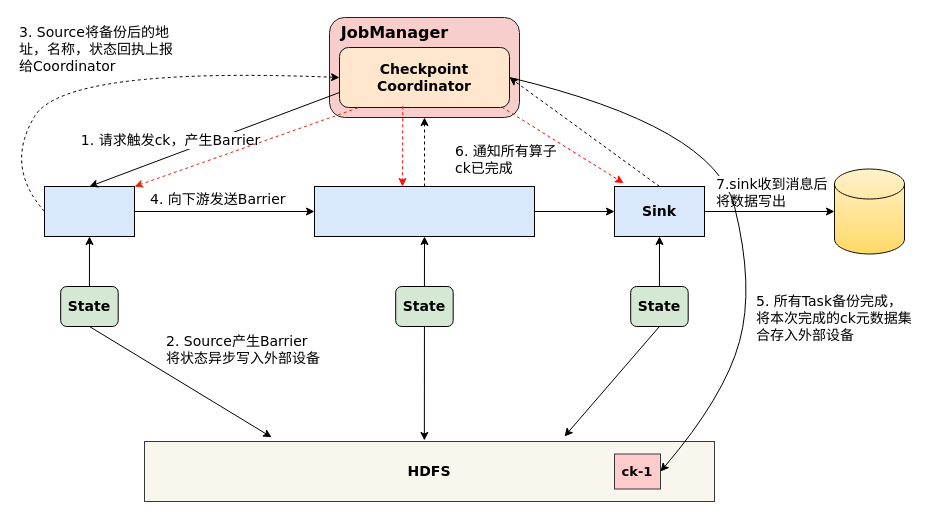
Some shapes in this 931 by 519 pixel diagram are drawn without their labels. Here are the shapes that lost their labels. From the top down, the centre of each, then its label:
At [89,211]: "Source".
At [424,211]: "Transformations...".
At [869,211]: "外部系统".
